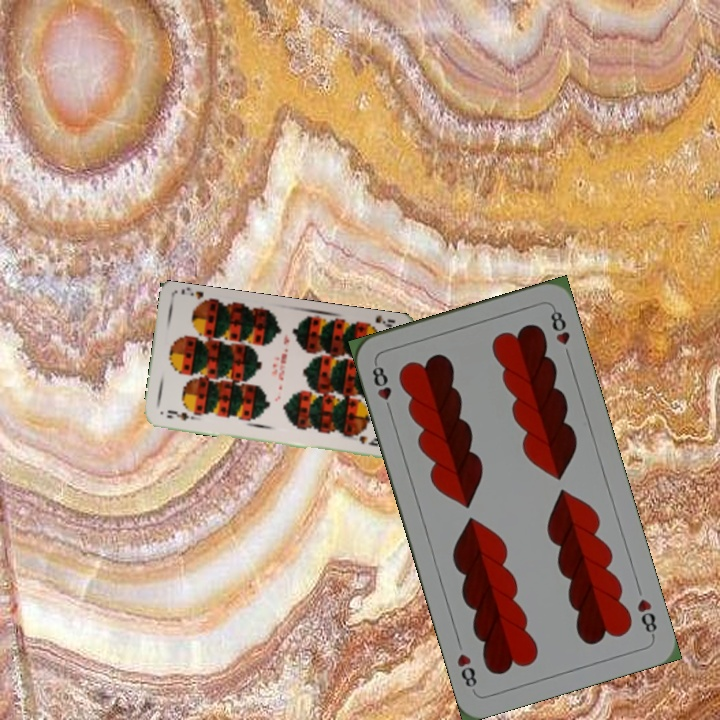H8: (368, 358, 395, 416), (633, 594, 660, 640)
S9: (360, 313, 398, 330), (163, 406, 191, 423)
